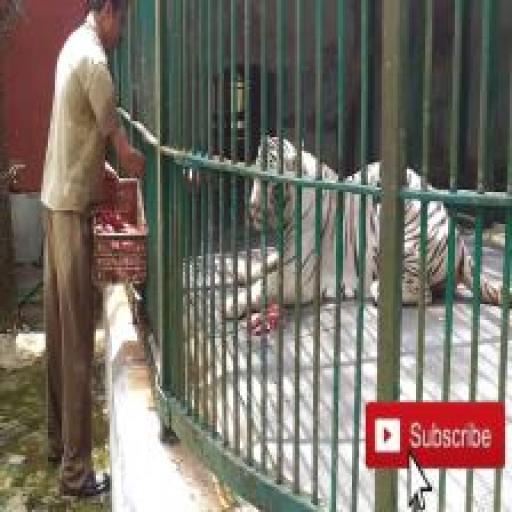Tiger: (221, 132, 512, 320)
